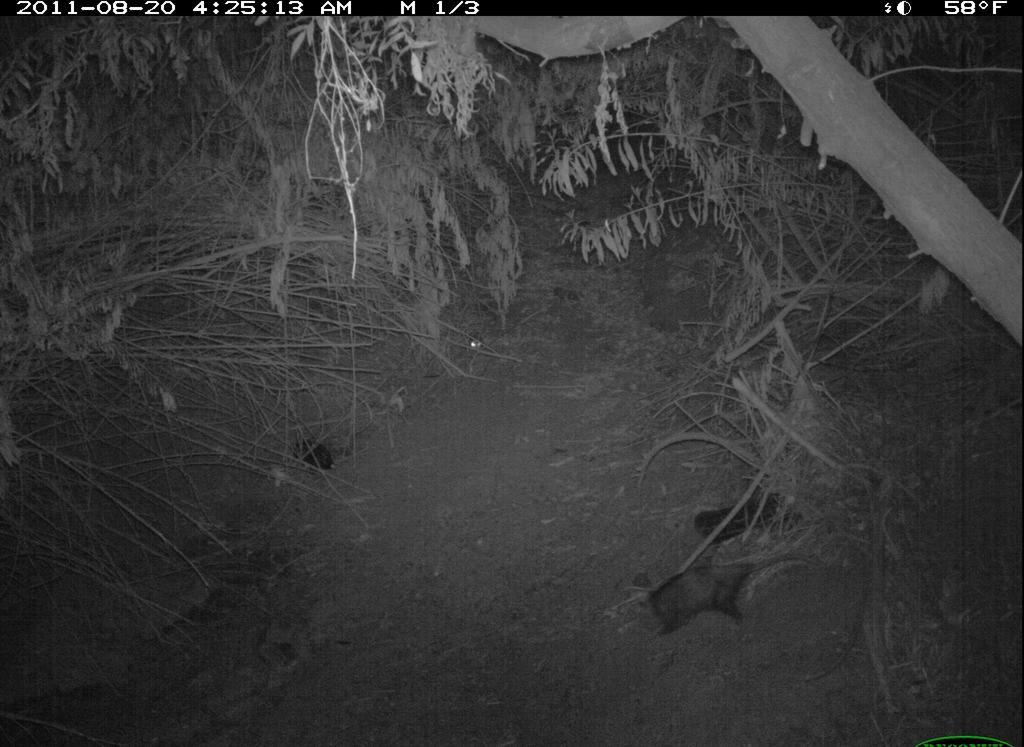opossum: (638, 553, 817, 641)
